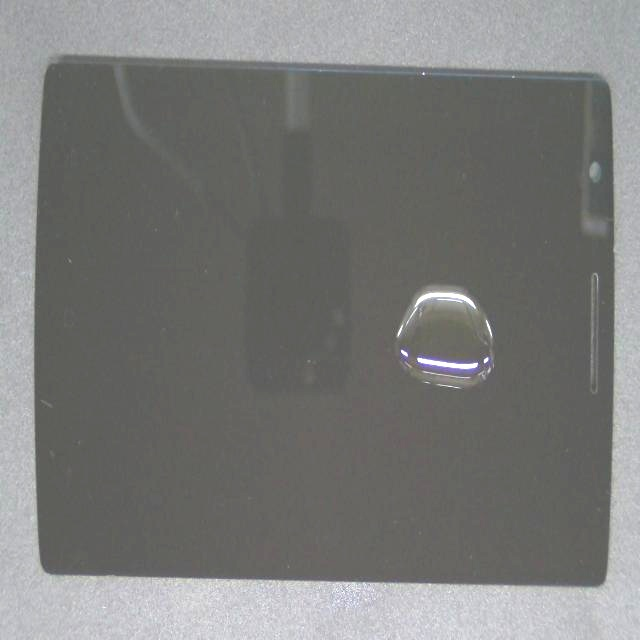oil: (272, 156, 640, 433)
